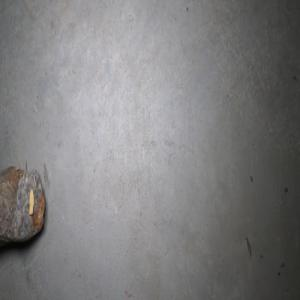Rock: (0, 160, 45, 247)
